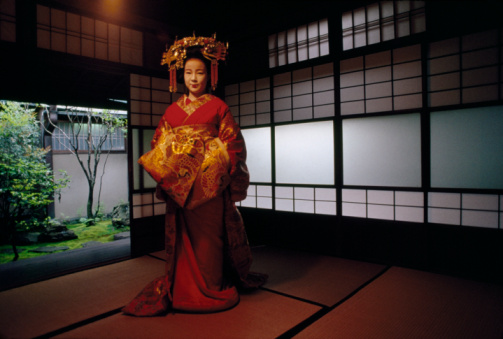em pe: (135, 46, 249, 318)
